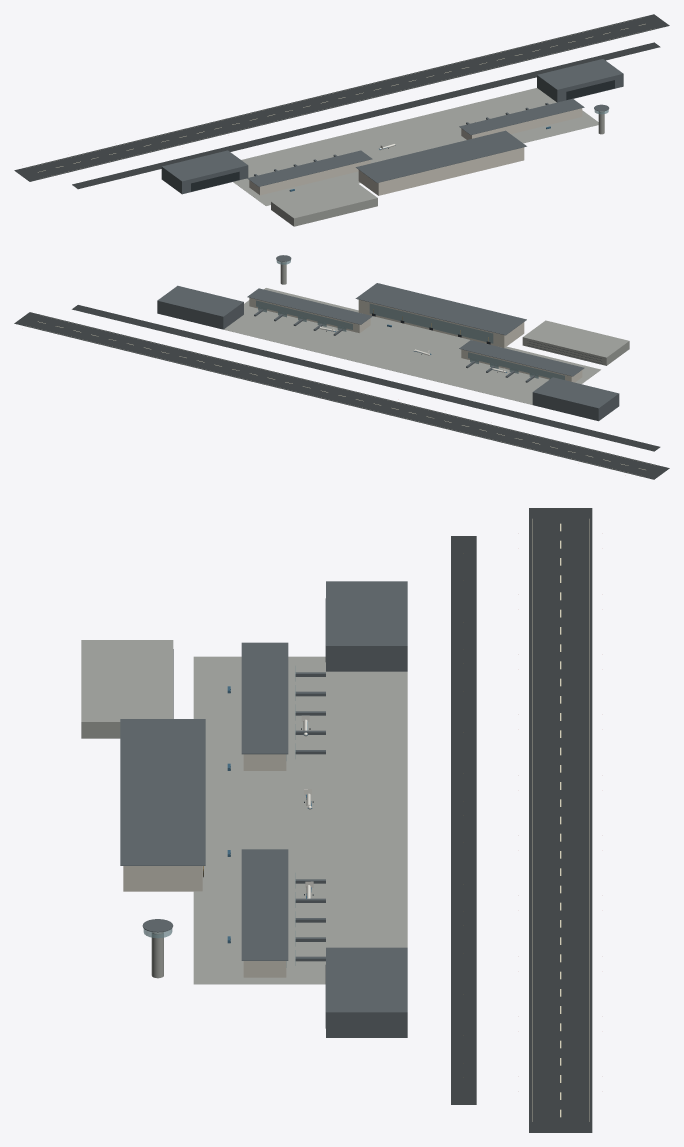
3 views of the same model, one above another, from view 1: azimuth 30°, elevation 25°; view 2: azimuth 150°, elevation 25°; view 3: azimuth 270°, elevation 25° (orthographic). The views are drawn at different scales.
Visible parts, largest first — view 1: AmpliWorld International Airport: road, AmpliWorld International Airport: concrete, AmpliWorld International Airport: steel, AmpliWorld International Airport: stone, AmpliWorld International Airport: dark, AmpliWorld International Airport: mark; view 2: AmpliWorld International Airport: concrete, AmpliWorld International Airport: road, AmpliWorld International Airport: steel, AmpliWorld International Airport: stone, AmpliWorld International Airport: glass, AmpliWorld International Airport: mark; view 3: AmpliWorld International Airport: concrete, AmpliWorld International Airport: road, AmpliWorld International Airport: steel, AmpliWorld International Airport: stone, AmpliWorld International Airport: mark.
Boxes of the visible parts, bbox=[...] form: AmpliWorld International Airport: road: bbox=[14, 14, 669, 189]; AmpliWorld International Airport: concrete: bbox=[233, 88, 604, 226]; AmpliWorld International Airport: steel: bbox=[161, 59, 623, 194]; AmpliWorld International Airport: stone: bbox=[249, 108, 582, 195]; AmpliWorld International Airport: dark: bbox=[191, 80, 614, 191]; AmpliWorld International Airport: mark: bbox=[27, 18, 651, 175]; AmpliWorld International Airport: concrete: bbox=[224, 261, 629, 404]; AmpliWorld International Airport: road: bbox=[14, 305, 669, 479]; AmpliWorld International Airport: steel: bbox=[157, 255, 619, 421]; AmpliWorld International Airport: stone: bbox=[249, 297, 582, 382]; AmpliWorld International Airport: glass: bbox=[256, 260, 564, 379]; AmpliWorld International Airport: mark: bbox=[30, 315, 654, 476]; AmpliWorld International Airport: concrete: bbox=[81, 640, 407, 984]; AmpliWorld International Airport: road: bbox=[451, 508, 592, 1132]; AmpliWorld International Airport: steel: bbox=[120, 581, 407, 1037]; AmpliWorld International Airport: stone: bbox=[123, 754, 286, 977]; AmpliWorld International Airport: mark: bbox=[532, 519, 589, 1121].
Size of the model in its own units: 1450 by 54.35 by 511.
